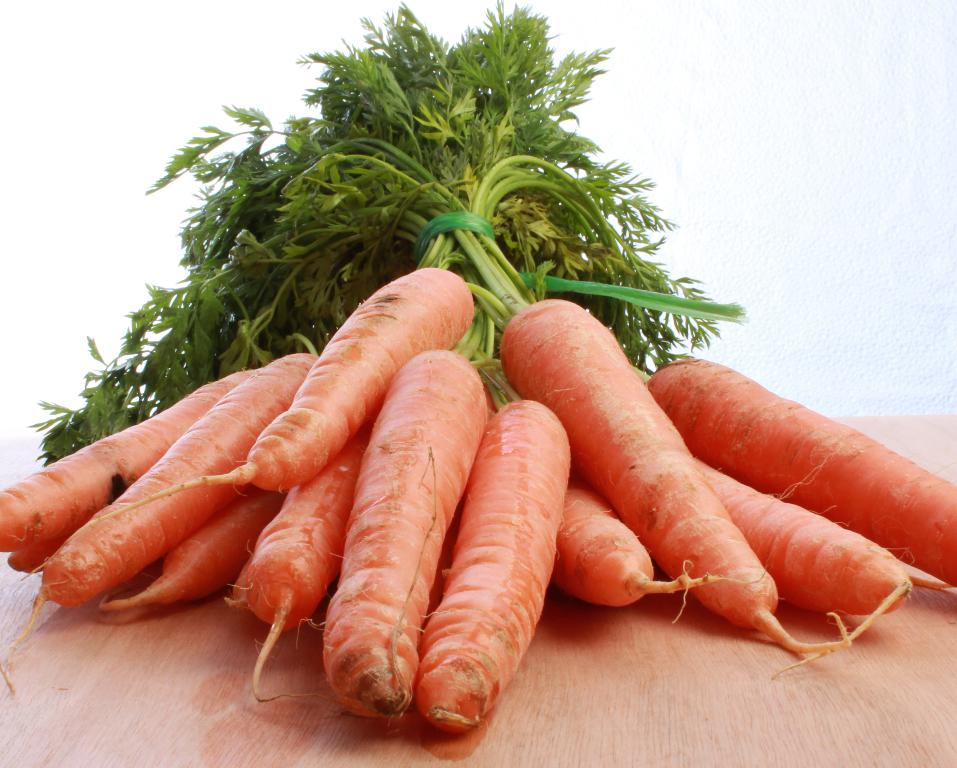Carrot: (0, 0, 957, 735)
